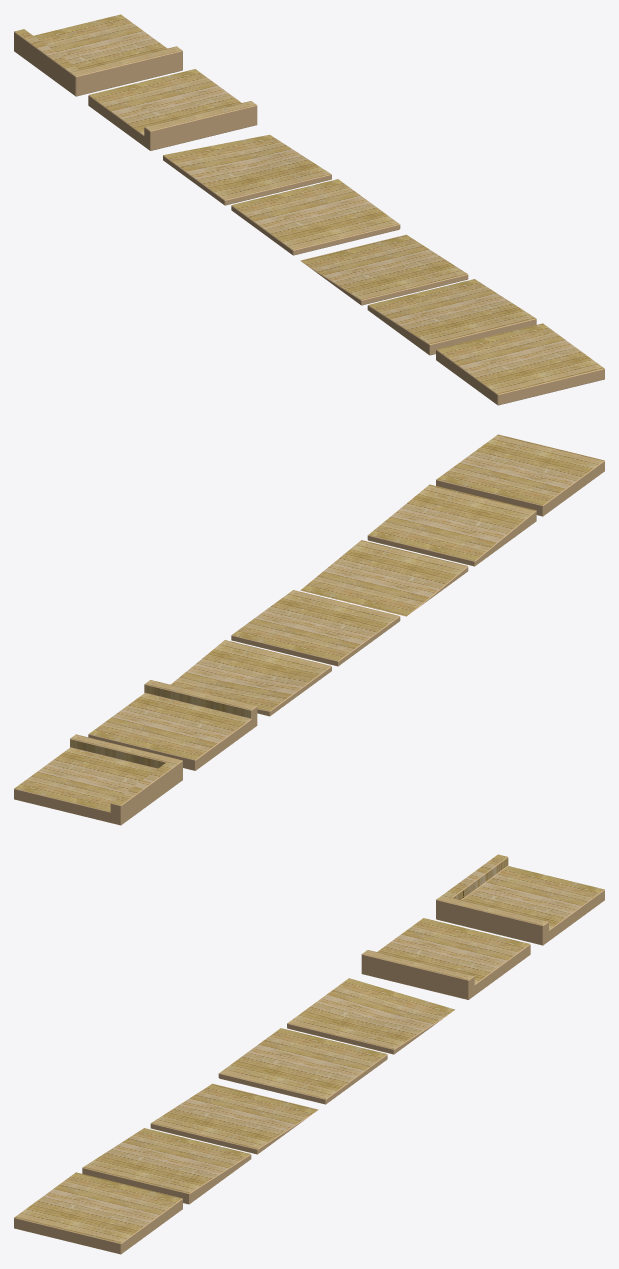
File: Blocks.glb
3 views of the same model, one above another, from view 1: azimuth 30°, elevation 25°; view 2: azimuth 150°, elevation 25°; view 3: azimuth 330°, elevation 25° (orthographic).
Parts seen in each view (by area): view 1: BlockWallCorner, BlockWall, Block, BlockShort, RampTop, RampLowerCorner, RampBottom; view 2: BlockWallCorner, BlockWall, RampTop, Block, BlockShort, RampBottom, RampLowerCorner; view 3: BlockWallCorner, BlockWall, Block, BlockShort, RampTop, RampLowerCorner, RampBottom.
Part boxes in pixels (x1=…): BlockWallCorner: x1=14, y1=14, x2=182, y2=96; BlockWall: x1=88, y1=69, x2=257, y2=150; Block: x1=436, y1=323, x2=604, y2=405; BlockShort: x1=231, y1=179, x2=400, y2=255; RampTop: x1=367, y1=279, x2=536, y2=355; RampLowerCorner: x1=163, y1=134, x2=331, y2=205; RampBottom: x1=300, y1=234, x2=468, y2=305; BlockWallCorner: x1=14, y1=734, x2=182, y2=825; BlockWall: x1=88, y1=680, x2=257, y2=770; RampTop: x1=367, y1=484, x2=536, y2=566; Block: x1=436, y1=434, x2=604, y2=516; BlockShort: x1=231, y1=590, x2=400, y2=666; RampBottom: x1=300, y1=540, x2=468, y2=616; RampLowerCorner: x1=171, y1=640, x2=331, y2=716; BlockWallCorner: x1=436, y1=854, x2=604, y2=945; BlockWall: x1=361, y1=918, x2=530, y2=999; Block: x1=14, y1=1172, x2=182, y2=1254; BlockShort: x1=218, y1=1028, x2=387, y2=1104; RampTop: x1=82, y1=1128, x2=251, y2=1204; RampLowerCorner: x1=287, y1=978, x2=454, y2=1054; RampBottom: x1=150, y1=1083, x2=318, y2=1154.
Size of what is drawn, in the model's own units: 10 by 1.8 by 78.
Materials: 2 (1 with a texture image).
